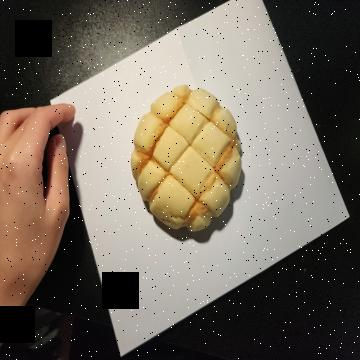melon_bread: (130, 83, 244, 234)
